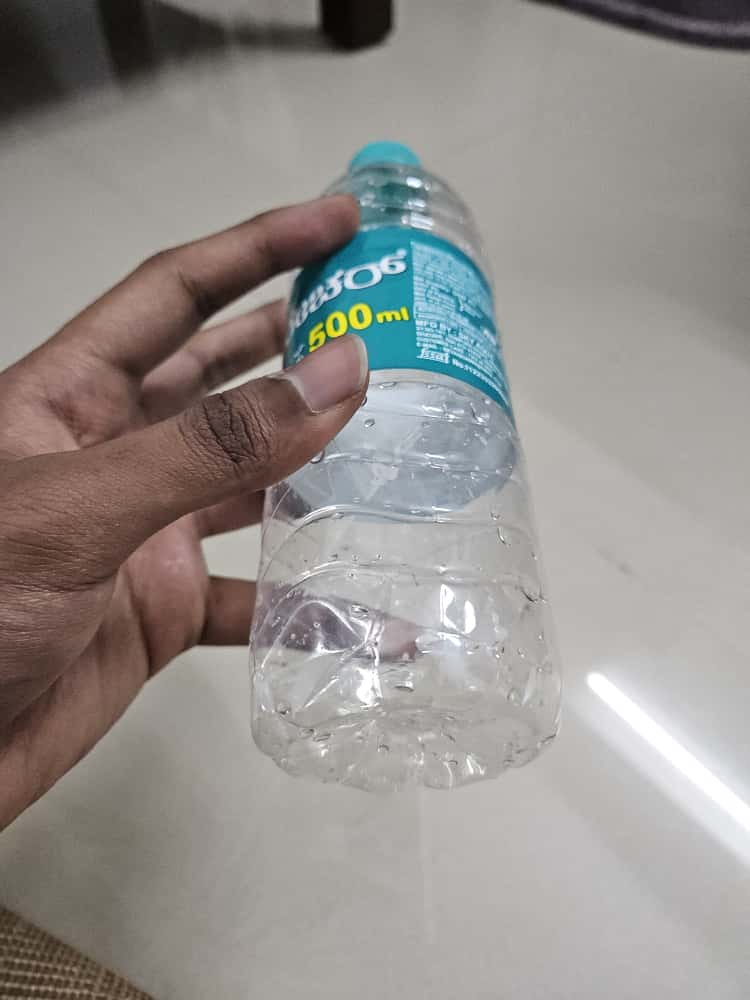dry: (237, 105, 560, 815)
